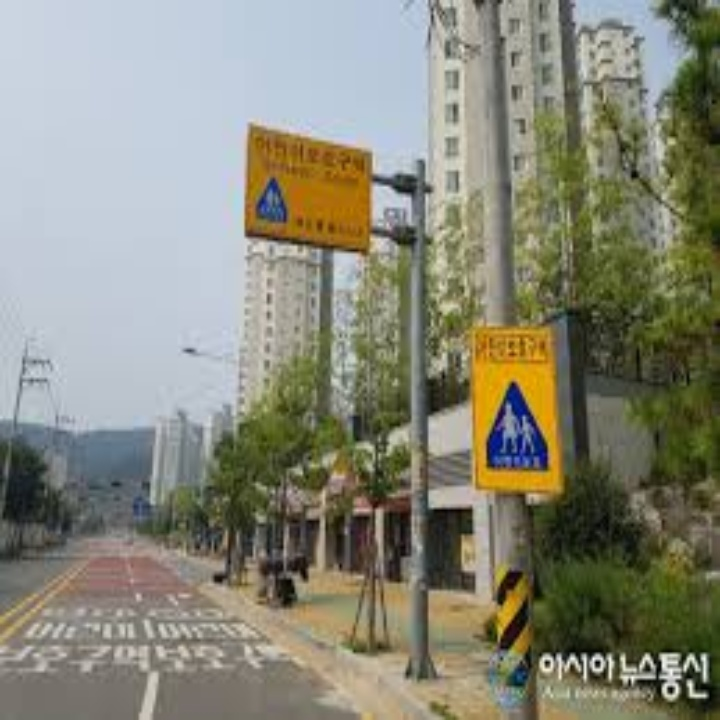child: (492, 398, 540, 455), (260, 185, 286, 210)
